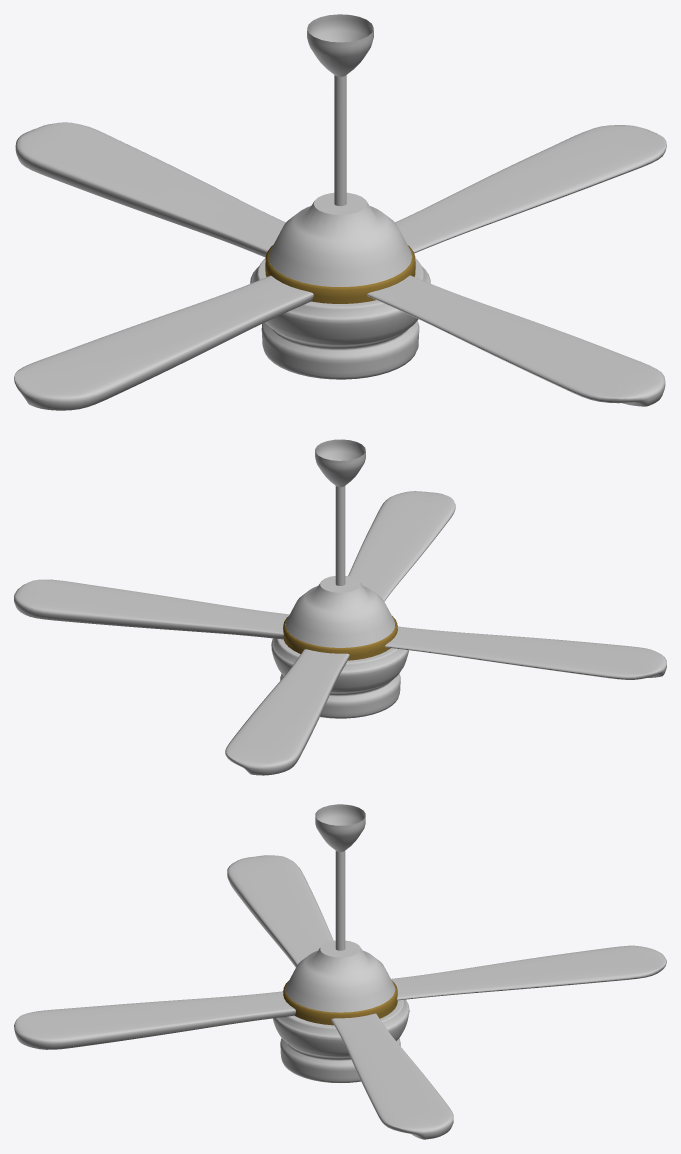
The model's file is celling_fan_clean.glb.
3 views of the same model, one above another, from view 1: azimuth 30°, elevation 25°; view 2: azimuth 150°, elevation 25°; view 3: azimuth 270°, elevation 25° (orthographic). The views are drawn at different scales.
Parts seen in each view (by area): view 1: medium, topbottom, bottom; view 2: medium, topbottom, bottom; view 3: medium, topbottom, bottom.
Part boxes in pixels (x1,y1,x2,y2): medium: [14, 122, 666, 410]; topbottom: [269, 14, 412, 286]; bottom: [250, 258, 430, 379]; medium: [14, 491, 666, 775]; topbottom: [286, 439, 394, 647]; bottom: [271, 626, 408, 718]; medium: [14, 855, 666, 1139]; topbottom: [286, 804, 394, 1012]; bottom: [273, 999, 409, 1082].
Bounding box in the file's own units: 1.78 × 0.735 × 1.78.
5 materials, 4 textured.
